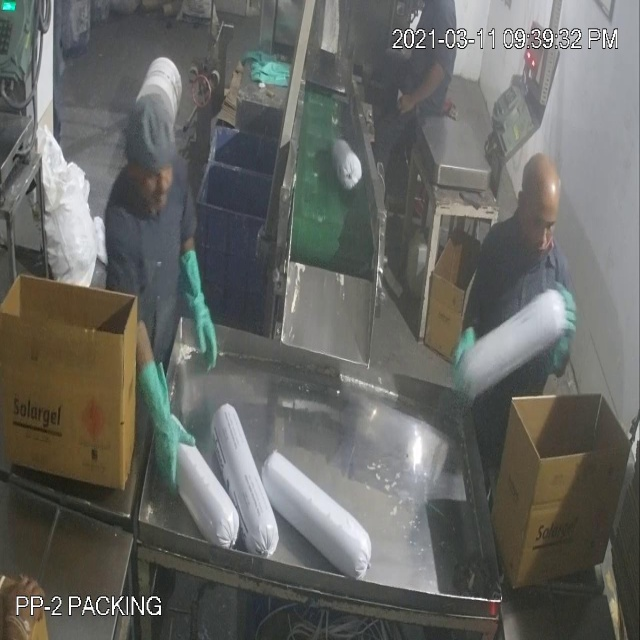Guantes: (129, 348, 198, 502), (178, 237, 228, 386)
Sin_guantes: (390, 56, 457, 115)
